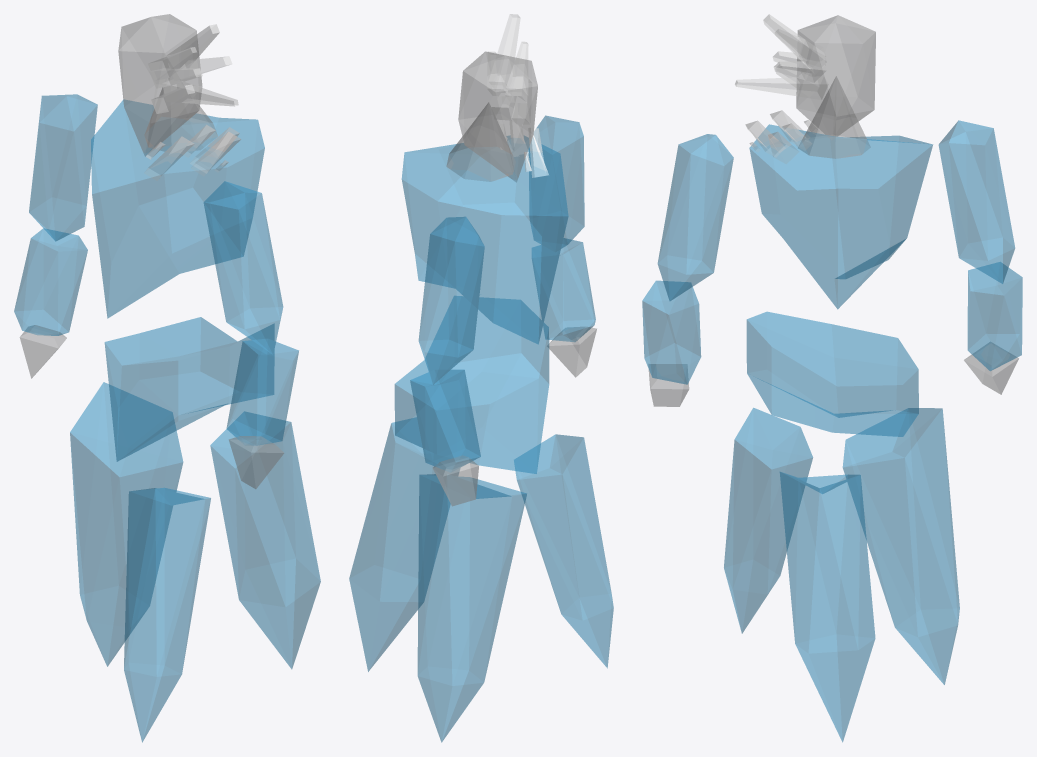
The model's file is ghostIdle15.obj.
The picture shows the model from 3 angles, left to right: view 1: azimuth 30°, elevation 25°; view 2: azimuth 150°, elevation 25°; view 3: azimuth 270°, elevation 25°; orthographic projection. The views are drawn at different scales.
Parts seen in each view (by area): view 1: Cube.001_Cube.001, Icosphere.005, Icosphere.004, Cube_Cube.002, Icosphere.003, Icosphere.005_Icosphere.001, Icosphere.003_Icosphere.001, Icosphere.007_Icosphere.001, Icosphere.008_Icosphere.001, Icosphere.006_Icosphere.001, Cone_Cone.002, Cube.002_Cube.001 (+10 smaller); view 2: Cube.001_Cube.001, Cube_Cube.002, Icosphere.005, Icosphere.004, Icosphere.003, Icosphere.007_Icosphere.001, Icosphere.003_Icosphere.001, Icosphere.005_Icosphere.001, Icosphere.008_Icosphere.001, Icosphere.006_Icosphere.001, Cone_Cone.002, Cube.003_Cube.001 (+5 smaller); view 3: Cube.001_Cube.001, Icosphere.005, Icosphere.004, Cube_Cube.002, Icosphere.003, Icosphere.005_Icosphere.001, Icosphere.007_Icosphere.001, Icosphere.003_Icosphere.001, Icosphere.006_Icosphere.001, Icosphere.008_Icosphere.001, Cone_Cone.002, Cube.003_Cube.001 (+4 smaller).
Boxes of the visible parts, bbox=[...] form: Cube.001_Cube.001: bbox=[91, 99, 264, 318]; Icosphere.005: bbox=[70, 382, 183, 666]; Icosphere.004: bbox=[210, 411, 320, 669]; Cube_Cube.002: bbox=[104, 317, 274, 461]; Icosphere.003: bbox=[124, 487, 210, 742]; Icosphere.005_Icosphere.001: bbox=[203, 181, 283, 354]; Icosphere.003_Icosphere.001: bbox=[118, 14, 202, 156]; Icosphere.007_Icosphere.001: bbox=[29, 94, 97, 241]; Icosphere.008_Icosphere.001: bbox=[14, 228, 87, 335]; Icosphere.006_Icosphere.001: bbox=[226, 339, 298, 445]; Cone_Cone.002: bbox=[145, 87, 217, 151]; Cube.002_Cube.001: bbox=[229, 436, 283, 488]; Cube.001_Cube.001: bbox=[401, 136, 568, 344]; Cube_Cube.002: bbox=[394, 296, 549, 473]; Icosphere.005: bbox=[417, 474, 526, 742]; Icosphere.004: bbox=[349, 417, 459, 671]; Icosphere.003: bbox=[514, 434, 613, 668]; Icosphere.007_Icosphere.001: bbox=[418, 216, 484, 384]; Icosphere.003_Icosphere.001: bbox=[458, 51, 537, 182]; Icosphere.005_Icosphere.001: bbox=[529, 115, 584, 251]; Icosphere.008_Icosphere.001: bbox=[410, 369, 480, 472]; Icosphere.006_Icosphere.001: bbox=[532, 238, 595, 341]; Cone_Cone.002: bbox=[446, 102, 513, 181]; Cube.003_Cube.001: bbox=[433, 455, 478, 506]; Cube.001_Cube.001: bbox=[749, 124, 932, 309]; Icosphere.005: bbox=[842, 408, 959, 684]; Icosphere.004: bbox=[779, 472, 875, 742]; Cube_Cube.002: bbox=[746, 311, 918, 436]; Icosphere.003: bbox=[724, 408, 812, 633]; Icosphere.005_Icosphere.001: bbox=[657, 134, 733, 300]; Icosphere.007_Icosphere.001: bbox=[938, 120, 1014, 283]; Icosphere.003_Icosphere.001: bbox=[796, 15, 875, 136]; Icosphere.006_Icosphere.001: bbox=[642, 280, 701, 384]; Icosphere.008_Icosphere.001: bbox=[967, 262, 1022, 370]; Cone_Cone.002: bbox=[798, 76, 870, 158]; Cube.003_Cube.001: bbox=[964, 342, 1018, 394].
Size of the model in its own units: 16.62 by 49.4 by 25.19.
